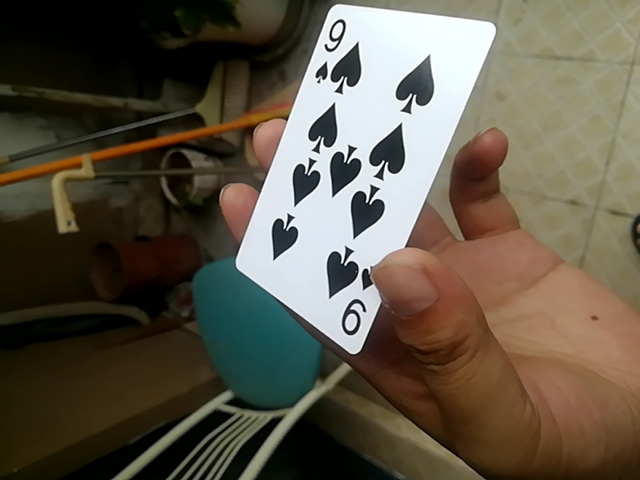ht 9: (233, 2, 493, 360)
